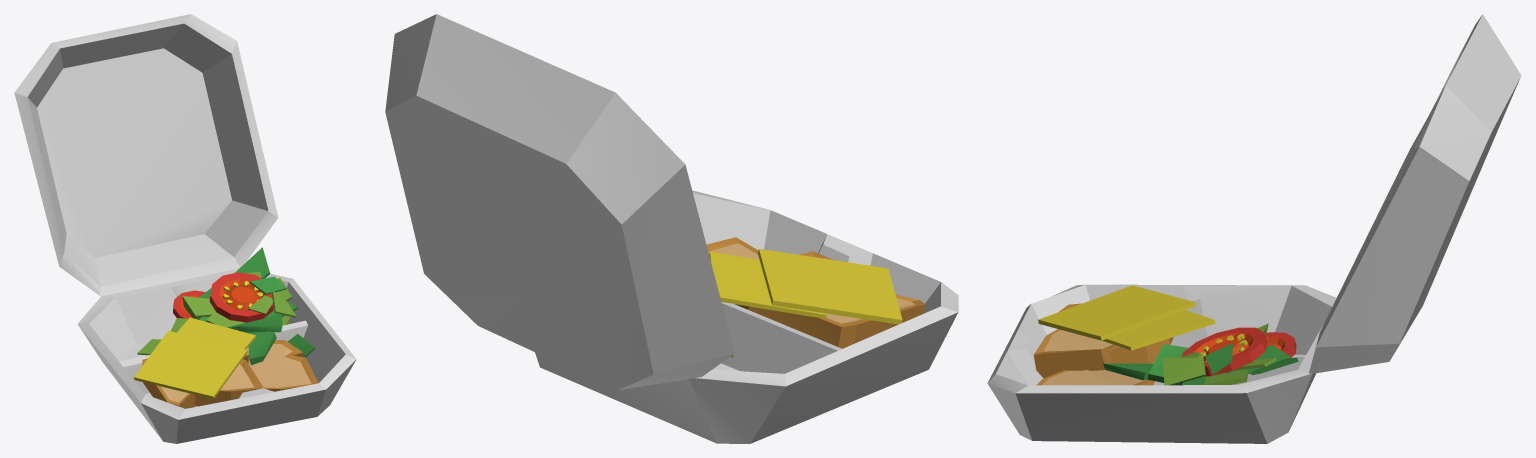
Rendered from food.glb.
3 views of the same model, side by side, from view 1: azimuth 30°, elevation 25°; view 2: azimuth 150°, elevation 25°; view 3: azimuth 270°, elevation 25° (orthographic). The views are drawn at different scales.
Visible parts, largest first — view 1: node_MeshObject-1148327936-PolyPaper21; view 2: node_MeshObject-1148327936-PolyPaper21; view 3: node_MeshObject-1148327936-PolyPaper21.
Boxes of the visible parts, x1,y1,x2,y2 form: node_MeshObject-1148327936-PolyPaper21: (14, 14, 356, 443); node_MeshObject-1148327936-PolyPaper21: (385, 14, 958, 443); node_MeshObject-1148327936-PolyPaper21: (987, 14, 1521, 443).
Bounding box in the file's own units: 0.909 × 1.09 × 1.39.
